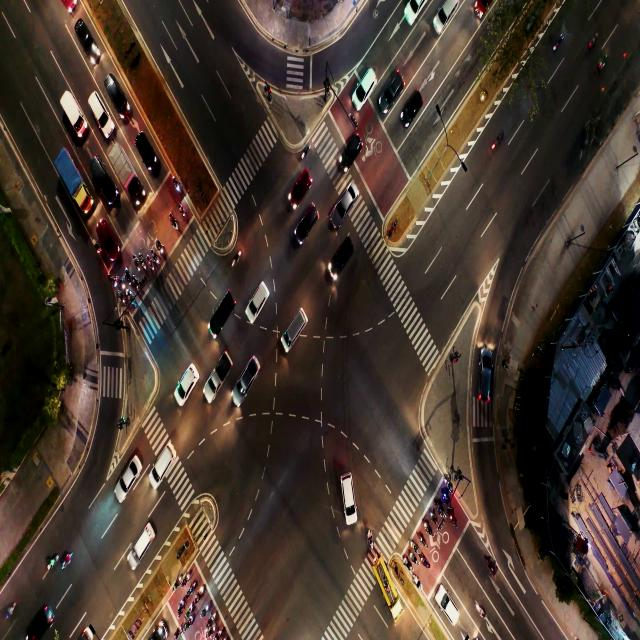bus: (378, 568, 393, 603)
car: (476, 350, 493, 402), (245, 285, 268, 323), (286, 304, 304, 348), (325, 240, 348, 274), (207, 300, 228, 334), (399, 97, 420, 129), (172, 371, 194, 400), (296, 205, 315, 238), (98, 224, 115, 260), (356, 72, 374, 105), (341, 134, 362, 162), (75, 27, 94, 56), (116, 468, 134, 498), (344, 473, 355, 521), (441, 582, 453, 626), (239, 365, 254, 400), (135, 523, 149, 560), (157, 446, 172, 479), (385, 74, 402, 102), (33, 611, 52, 636), (296, 167, 312, 196), (436, 3, 454, 26), (340, 187, 357, 210), (110, 82, 123, 111), (95, 164, 108, 192), (94, 104, 107, 132), (136, 141, 153, 160), (405, 2, 419, 21)
motorcycle: (492, 131, 505, 151), (48, 554, 58, 571), (63, 554, 71, 570), (232, 250, 239, 268), (196, 585, 204, 600), (183, 619, 191, 633), (217, 626, 225, 640), (180, 204, 188, 217), (185, 604, 192, 618), (170, 216, 176, 230), (487, 558, 493, 571), (443, 491, 449, 504), (173, 577, 180, 588), (178, 599, 185, 610), (303, 146, 309, 158), (202, 604, 208, 616), (135, 256, 140, 270), (94, 242, 100, 253), (183, 575, 189, 586), (111, 276, 116, 289), (368, 531, 372, 547), (188, 586, 195, 595), (424, 521, 429, 533), (153, 251, 158, 263), (128, 292, 134, 302), (173, 181, 180, 189), (134, 276, 139, 287), (450, 516, 456, 525), (172, 631, 178, 640), (141, 256, 145, 269), (479, 606, 484, 616), (438, 505, 443, 515), (158, 242, 163, 252), (210, 612, 215, 622), (412, 554, 418, 562), (126, 269, 130, 281), (406, 559, 411, 568), (432, 510, 436, 521), (416, 574, 420, 585), (120, 276, 124, 286), (119, 294, 124, 302), (422, 553, 425, 565), (149, 258, 153, 267), (447, 482, 452, 489), (208, 629, 213, 635), (420, 534, 424, 541), (412, 545, 416, 552)
truck: (212, 356, 226, 390), (63, 159, 77, 190), (116, 154, 130, 178), (63, 98, 80, 117)
